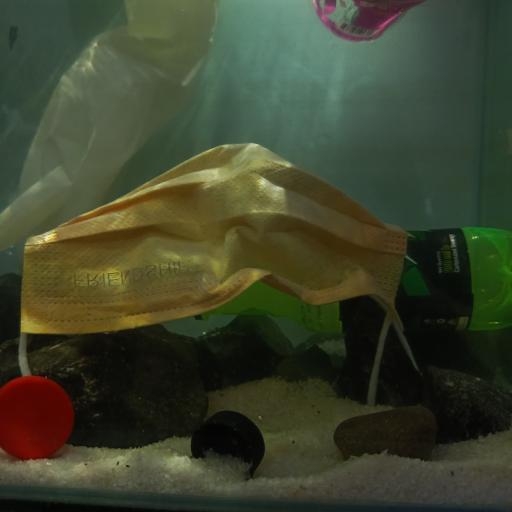bottle_cap: (2, 376, 72, 459), (190, 410, 266, 478)
glove: (0, 0, 218, 249)
mask: (20, 142, 412, 369)
plastic_bottle: (196, 228, 512, 338), (313, 0, 430, 45)
